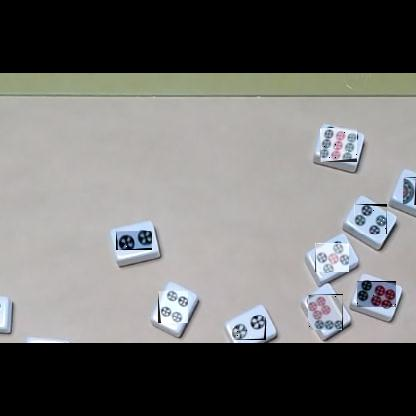1p: (403, 177, 416, 205)
2p: (232, 316, 266, 340), (116, 231, 152, 250)
4p: (354, 204, 387, 234), (158, 291, 188, 323)
5p: (315, 243, 349, 272)
6p: (357, 281, 396, 307)
7p: (308, 294, 343, 330)
9p: (320, 128, 357, 162)
